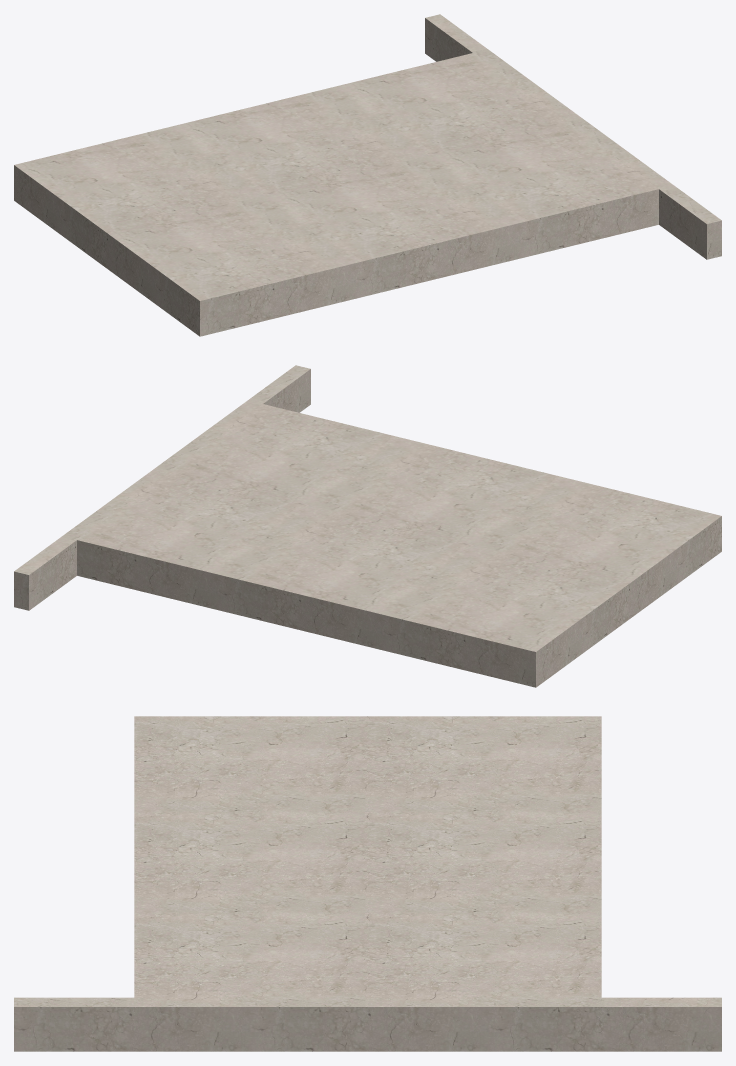
File: pasted__marble_tile_109.fbx
The picture shows the model from 3 angles, top to bottom: view 1: azimuth 30°, elevation 25°; view 2: azimuth 150°, elevation 25°; view 3: azimuth 270°, elevation 25°; orthographic projection. The views are drawn at different scales.
Parts seen in each view (by area): view 1: pasted__marble_tile_109; view 2: pasted__marble_tile_109; view 3: pasted__marble_tile_109.
Boxes of the visible parts, x1,y1,x2,y2 form: pasted__marble_tile_109: (14, 14, 721, 336); pasted__marble_tile_109: (14, 365, 721, 687); pasted__marble_tile_109: (14, 716, 721, 1051).
Size of the model in its own units: 755 by 777 by 54.26.
